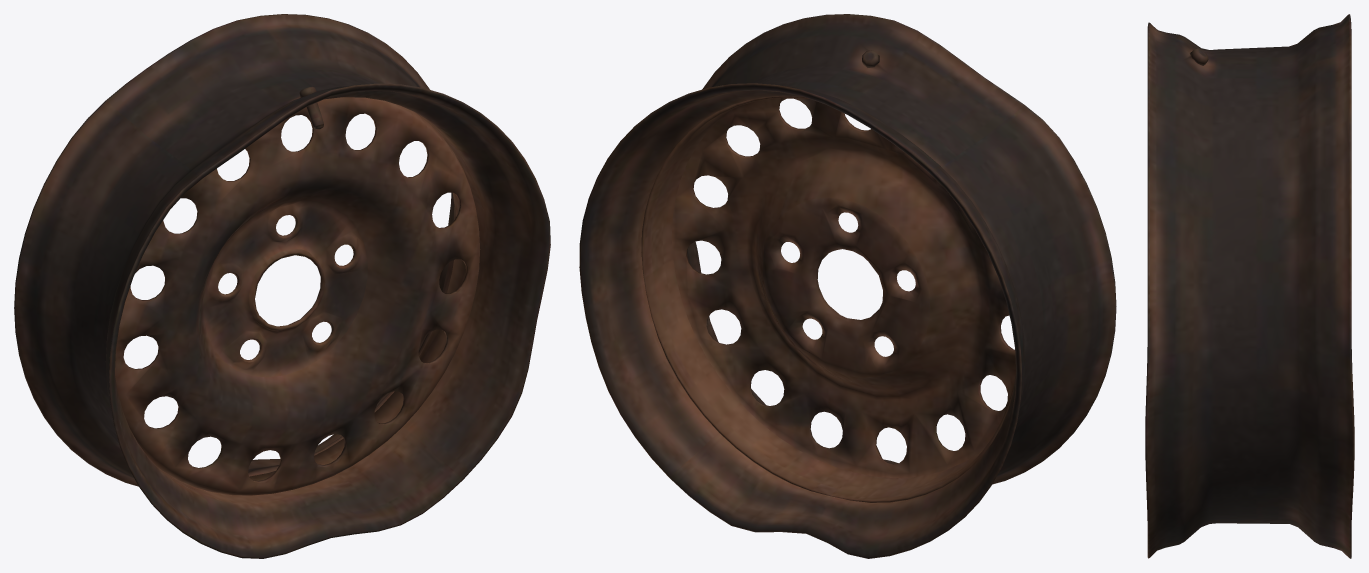
Rendered from rusted_wheel_rim_01.glb.
The picture shows the model from 3 angles, left to right: view 1: azimuth 30°, elevation 25°; view 2: azimuth 150°, elevation 25°; view 3: azimuth 270°, elevation 25°; orthographic projection. The views are drawn at different scales.
Visible parts, largest first — view 1: rusted_wheel_rim_01; view 2: rusted_wheel_rim_01; view 3: rusted_wheel_rim_01.
Part boxes in pixels (left/top/right/bottom): rusted_wheel_rim_01: left=14, top=14, right=550, bottom=558; rusted_wheel_rim_01: left=579, top=14, right=1116, bottom=558; rusted_wheel_rim_01: left=1145, top=14, right=1354, bottom=558.
Size of the model in its own units: 0.4029 by 0.3955 by 0.1541.
Materials: 1 (1 with a texture image).
